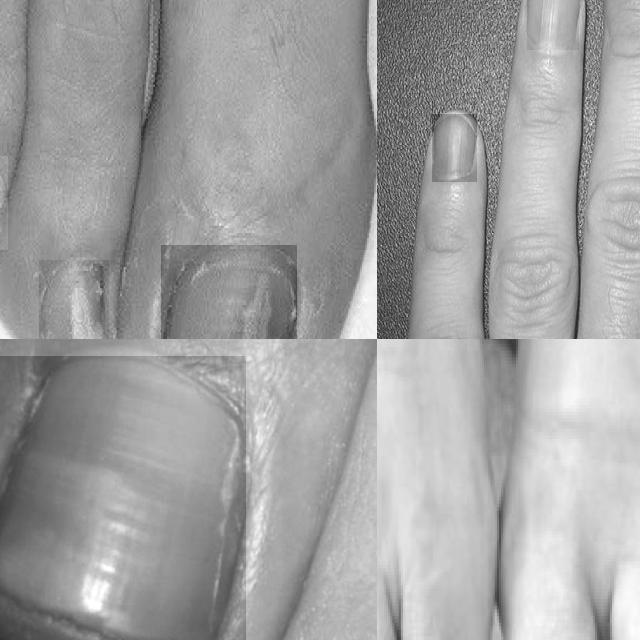diabetes: (0, 357, 246, 640), (165, 245, 297, 339), (39, 260, 108, 339)
sehat: (433, 114, 477, 182), (527, 0, 579, 50)
